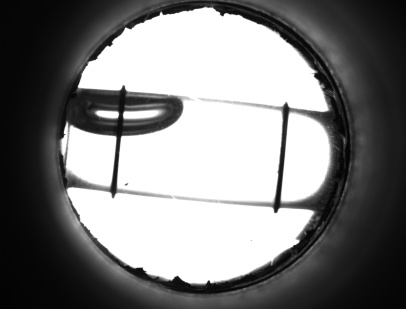line: (269, 119, 292, 193), (109, 140, 124, 181)
